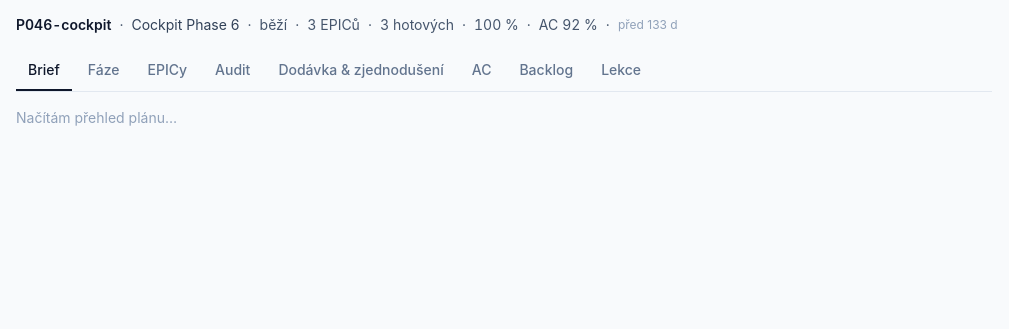
Test: ScreenPlan — plan detail tabs › P046 → exactly 3 members with correct chips (one plan_ref, two derived) + "přiřazeno podle čísla EPICu" note + orphan count
Expected: the element that starts with "P046-cockpit" is shown, [16,16,678,33]
Click the tab "EPICy".
click(167, 71)  # box [136,51,199,91]
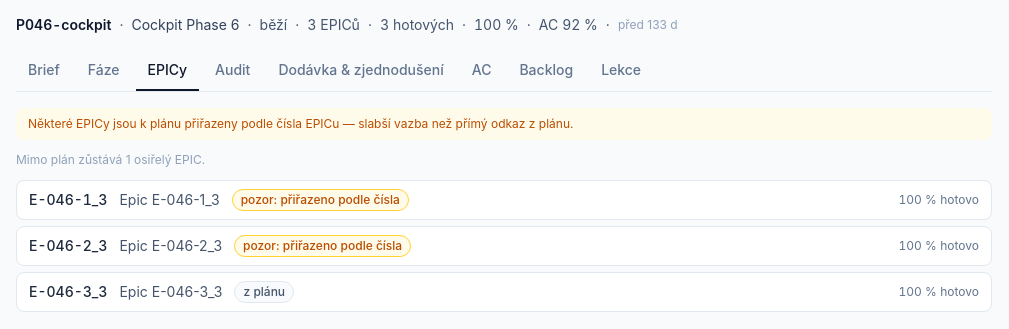
Expected: the list is shown, [16,180,992,312]
Expected: the number of links is 3, [16,180,992,220]; [16,226,992,266]; [16,272,992,312]
Expected: the text "pozor: přiřazeno podle čísla" next to "Epic E-046-1_3" is shown, [241,192,400,207]
